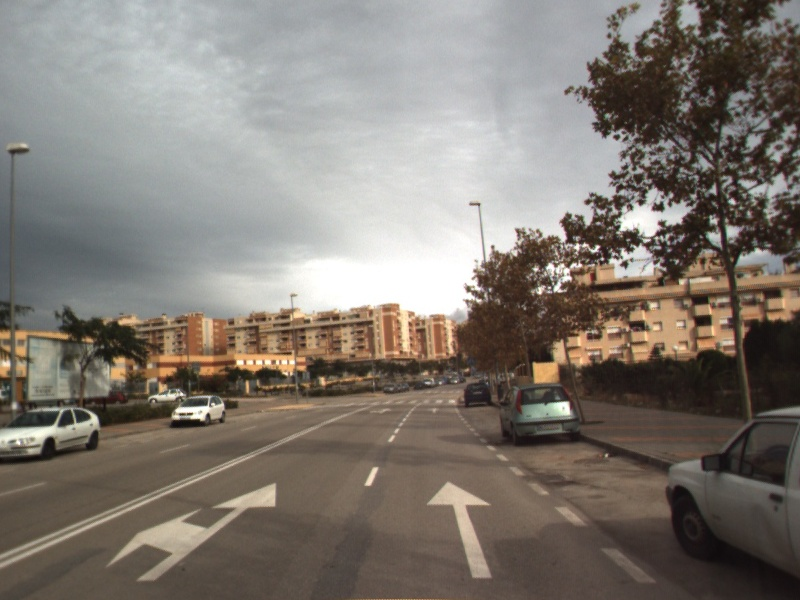STRAIGHT: (424, 478, 495, 580), (426, 406, 443, 415)
STRAIGHT_LEFT: (103, 481, 279, 583), (368, 406, 394, 416)
